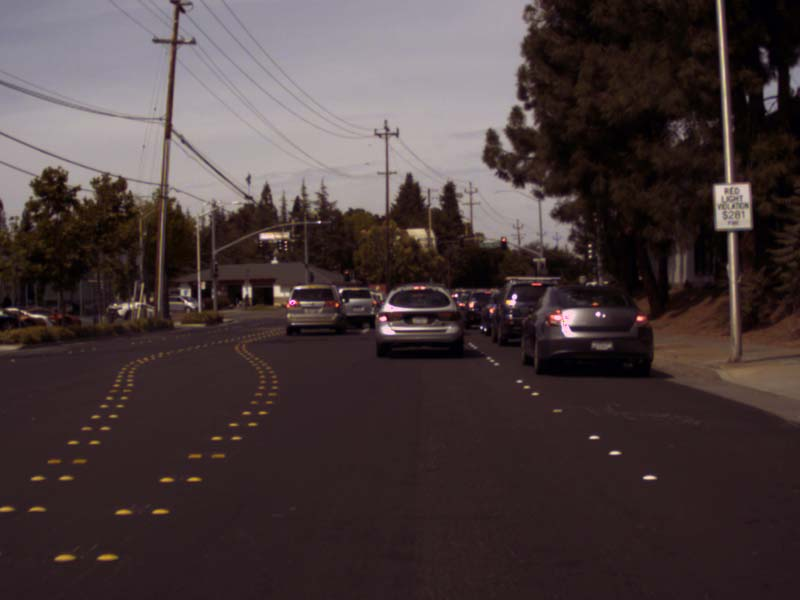Red: (344, 269, 349, 280), (501, 237, 506, 248)
